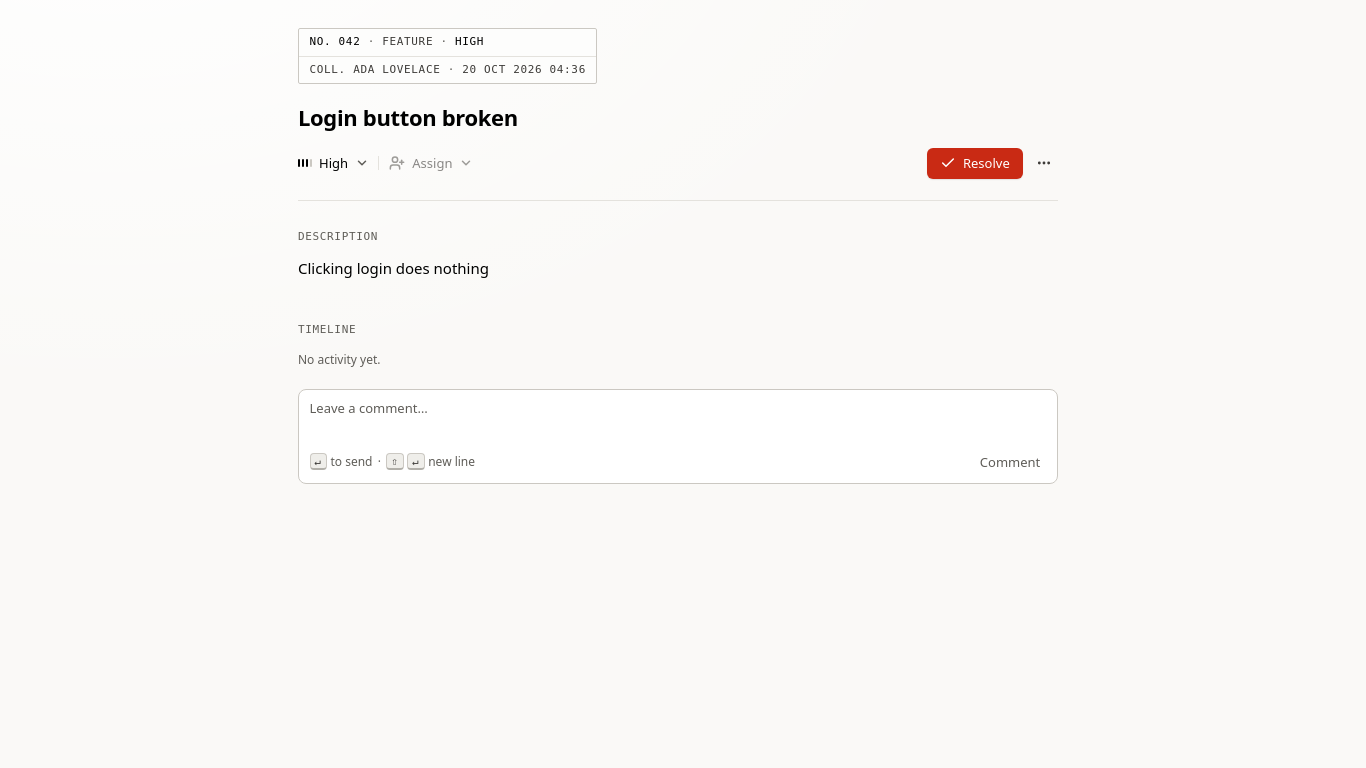
Test: BugDetail › shows why a delete failed and keeps the dialog open
Click the button named "More actions". click: (1044, 163)
box: x1=1030 y1=149 x2=1058 y2=177
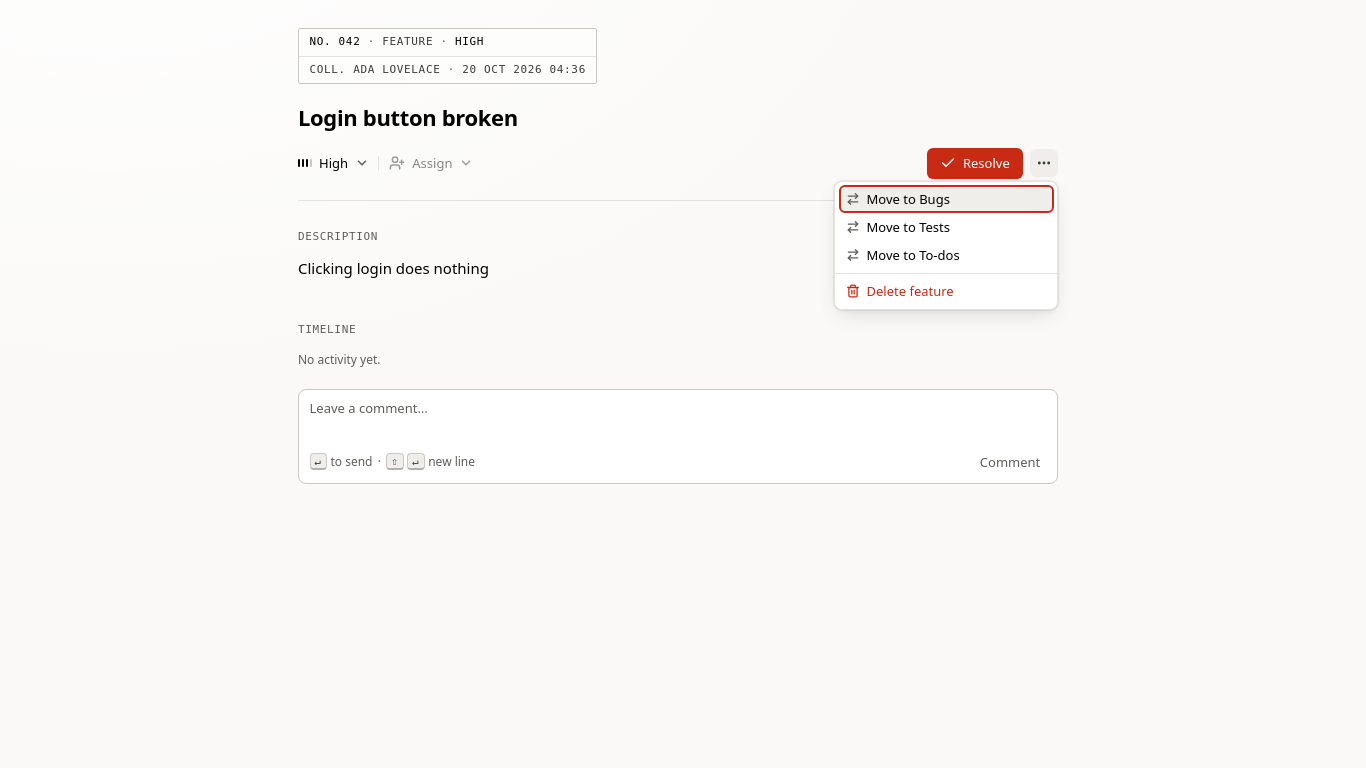
Click the menu item "Delete feature". click: (946, 291)
box: x1=838 y1=277 x2=1054 y2=305
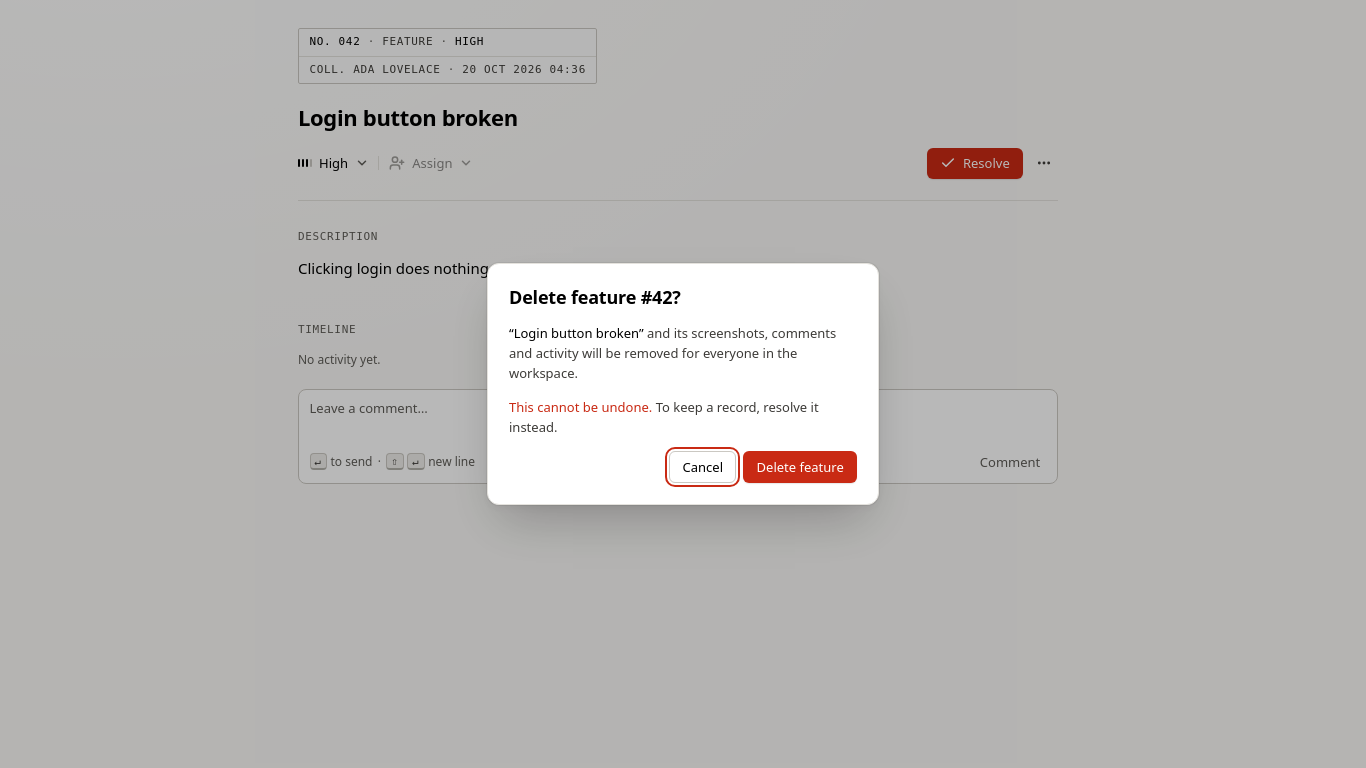
Click the button "Delete feature". click: (800, 467)
box: x1=743 y1=451 x2=857 y2=483
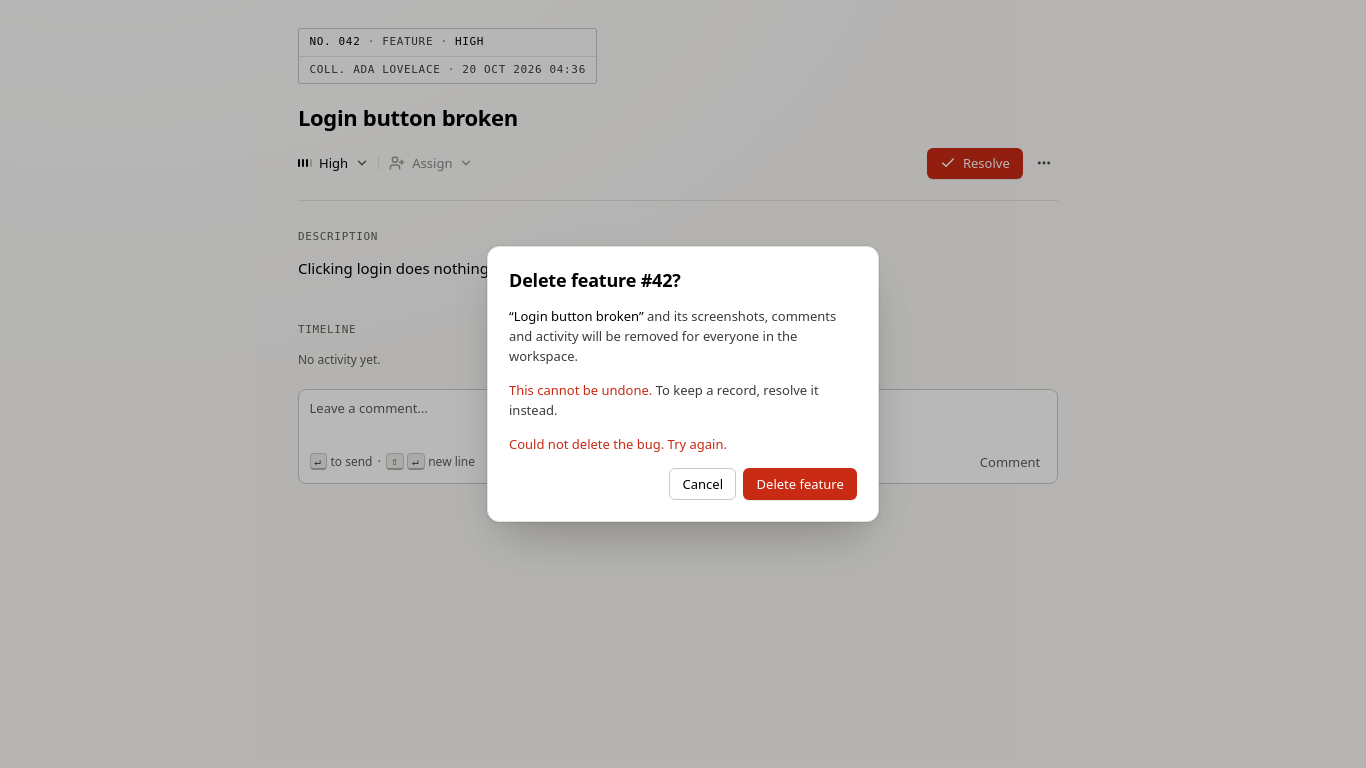
Result: the message shows "Could not delete the bug." at x1=509 y1=435 x2=727 y2=453
